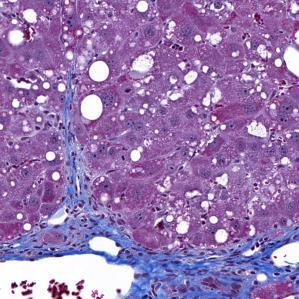fibrosis: (155, 240, 277, 299), (64, 205, 141, 258)
